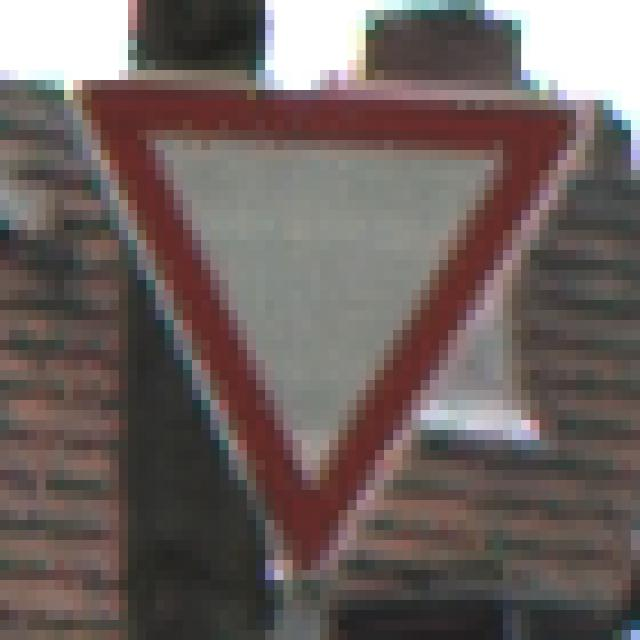Give Way: (56, 61, 586, 591)
